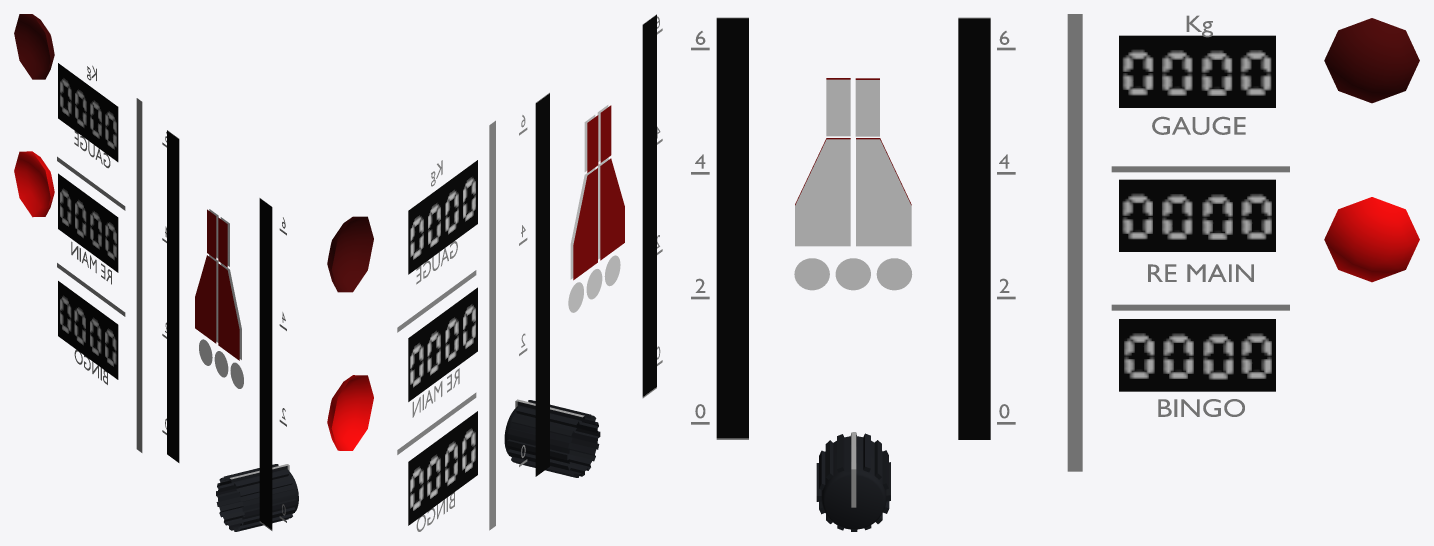
Rendered from carburant.fbx.
The picture shows the model from 3 angles, left to right: view 1: azimuth 30°, elevation 25°; view 2: azimuth 150°, elevation 25°; view 3: azimuth 270°, elevation 25°; orthographic projection. The views are drawn at different scales.
Parts seen in each view (by area): view 1: carburant.leftgauge, carburant.texte, carburant.rightgauge, carburant.knob, carburant.low-lamp, carburant.low-lamp-off2, carburant.warningrougeBR, carburant.warningrougeBL, carburant.num2-4, carburant.num1-1, carburant.num1-2, carburant.num1-3 (+10 smaller); view 2: carburant.leftgauge, carburant.rightgauge, carburant.texte, carburant.knob, carburant.low-lamp-off2, carburant.low-lamp, carburant.warningrougeBL, carburant.warningrougeBR, carburant.num1-1, carburant.num1-3, carburant.num1-4, carburant.num2-1 (+11 smaller); view 3: carburant.rightgauge, carburant.leftgauge, carburant.texte, carburant.knob, carburant.low-lamp-off2, carburant.low-lamp, carburant.warningblancBL, carburant.warningblancBR, carburant.num1-2, carburant.num2-2, carburant.num3-1, carburant.num3-2 (+13 smaller).
Part boxes in pixels (x1,y1,x2,y2): carburant.leftgauge: (259, 198, 272, 530); carburant.texte: (57, 65, 286, 522); carburant.rightgauge: (167, 130, 179, 462); carburant.knob: (216, 464, 298, 531); carburant.low-lamp: (14, 151, 54, 217); carburant.low-lamp-off2: (14, 14, 54, 79); carburant.warningrougeBR: (195, 255, 216, 343); carburant.warningrougeBL: (218, 263, 239, 360); carburant.num2-4: (58, 173, 73, 239); carburant.num1-1: (103, 96, 118, 161); carburant.num1-2: (88, 85, 103, 150); carburant.num1-3: (73, 74, 88, 139); carburant.leftgauge: (642, 14, 656, 398); carburant.rightgauge: (535, 92, 549, 476); carburant.texte: (397, 16, 662, 531); carburant.knob: (504, 399, 600, 477); carburant.low-lamp-off2: (327, 216, 373, 292); carburant.low-lamp: (327, 375, 373, 450); carburant.warningrougeBL: (600, 158, 624, 260); carburant.warningrougeBR: (573, 168, 597, 280); carburant.num1-1: (460, 160, 477, 236); carburant.num1-3: (425, 185, 442, 261); carburant.num1-4: (408, 198, 425, 274); carburant.num2-1: (460, 287, 477, 363); carburant.rightgauge: (958, 17, 990, 439); carburant.leftgauge: (716, 17, 748, 439); carburant.texte: (691, 14, 1289, 471); carburant.knob: (816, 432, 890, 531); carburant.low-lamp-off2: (1324, 18, 1419, 103); carburant.low-lamp: (1324, 197, 1419, 282); carburant.warningblancBL: (795, 139, 850, 246); carburant.warningblancBR: (856, 139, 911, 246); carburant.num1-2: (1158, 35, 1197, 107); carburant.num2-2: (1158, 179, 1197, 251); carburant.num3-1: (1119, 319, 1158, 391); carburant.num3-2: (1158, 319, 1197, 391).
Bounding box in the file's own units: 1.31 × 8.86 × 6.46.
